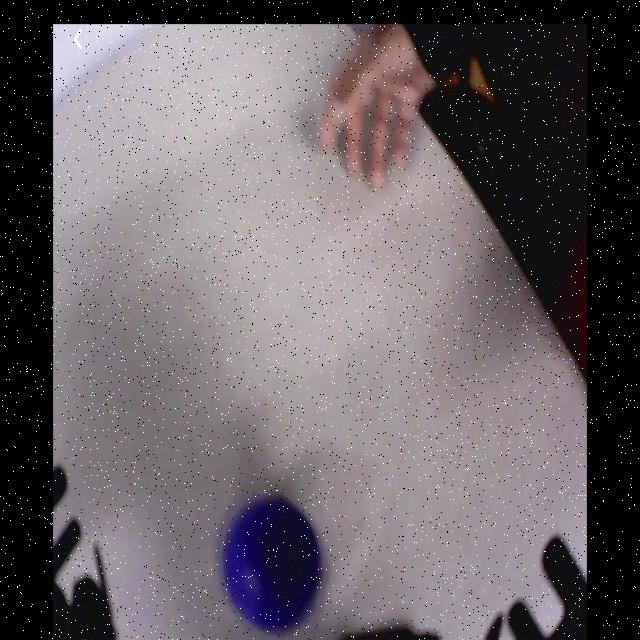ball: (223, 494, 323, 633)
